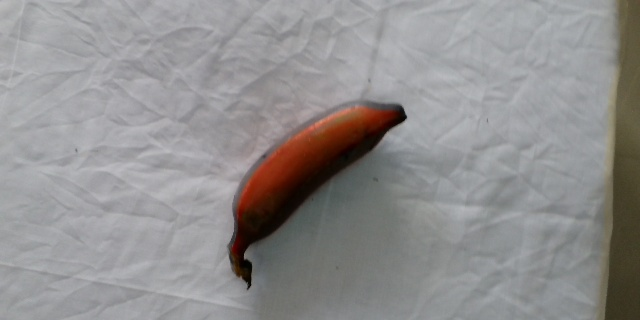banana_red: (225, 89, 409, 284)
